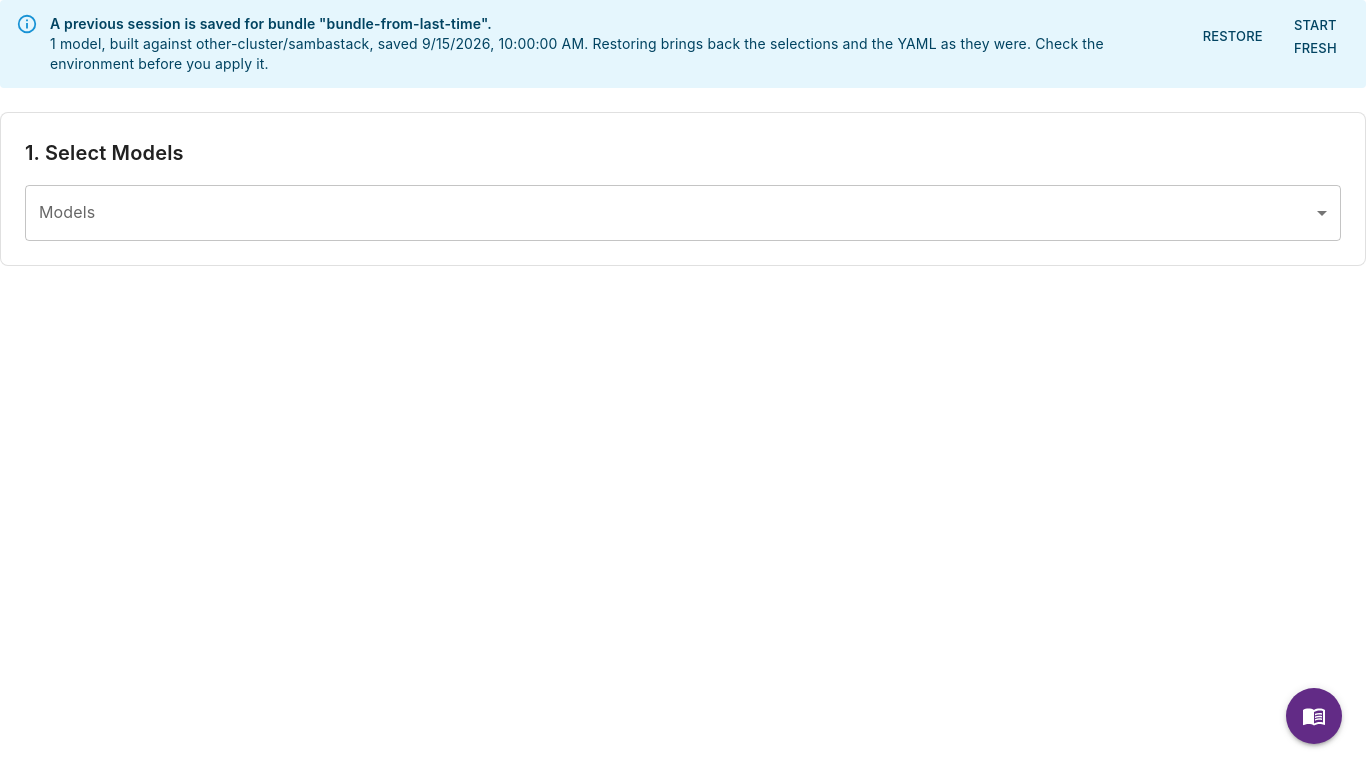
Scenario: ModelSelection saved-session restore › applies the saved session when the user restores it
The width and height of the screenshot is (1366, 768).
Step 1. Click the button "Restore" → x=1233, y=37, box [1201,10,1265,64]
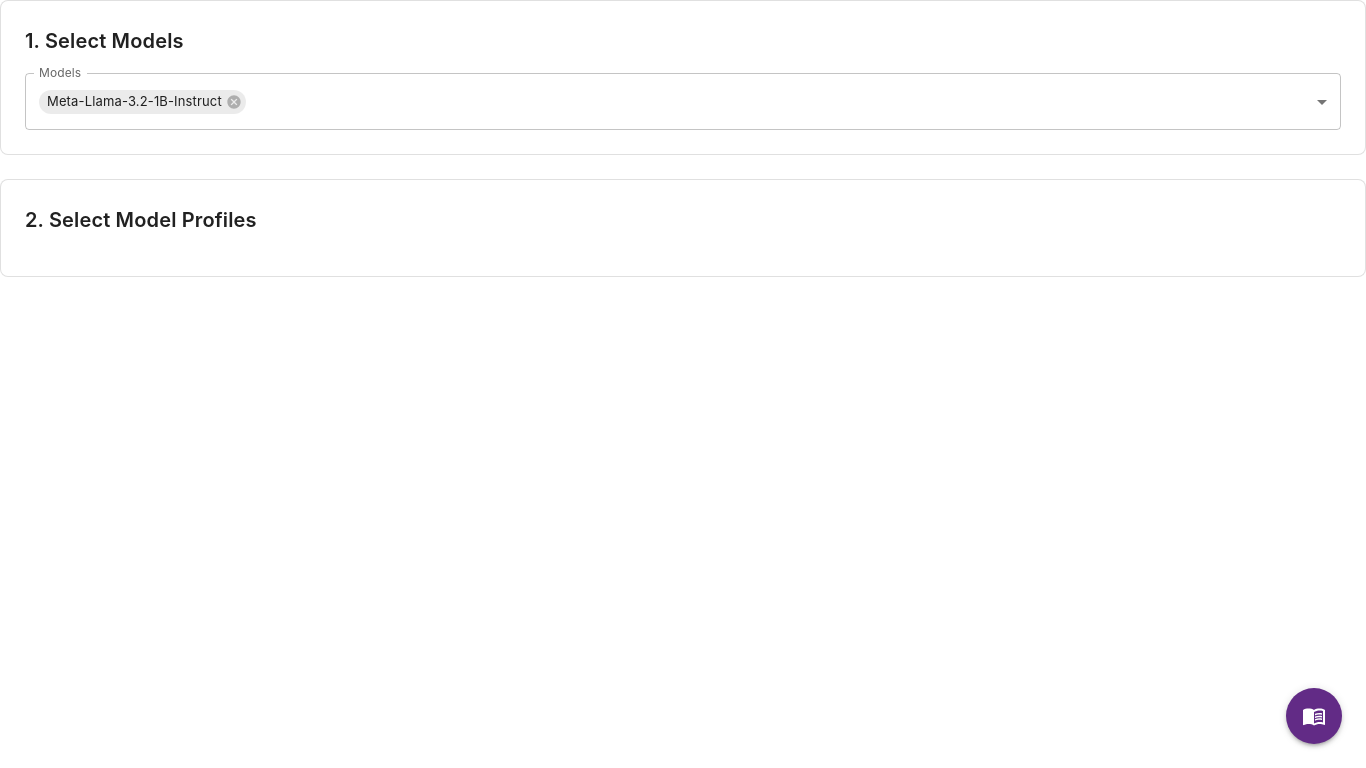
Result: the text "Meta-Llama-3.2-1B-Instruct" is shown at [39,92,230,111]
Result: the text "A previous session is saved" is gone
